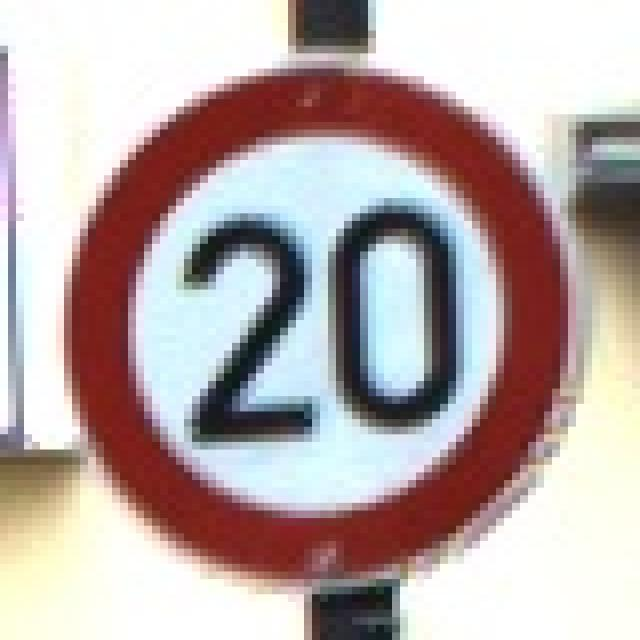Speed Limit -20-: (64, 53, 584, 587)
